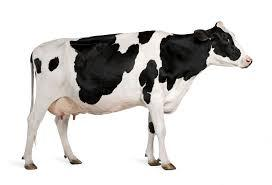cow: (25, 21, 254, 169)
